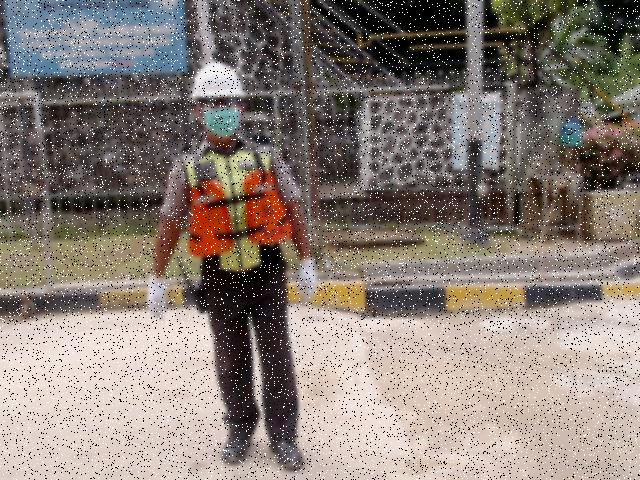glasses: (196, 98, 243, 109)
gloves: (144, 273, 169, 323), (296, 255, 319, 307)
helmet: (187, 61, 250, 99)
mask: (198, 107, 243, 137)
safety-shoes: (216, 415, 261, 466), (268, 422, 305, 473)
vest: (187, 173, 292, 258)
